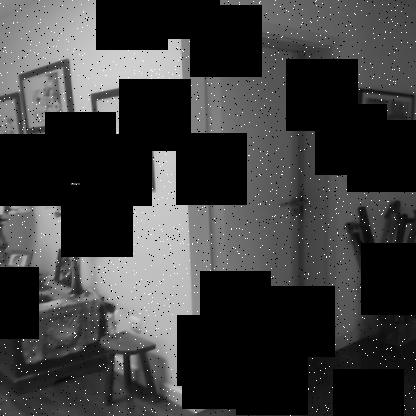Porte: (203, 7, 345, 404)
